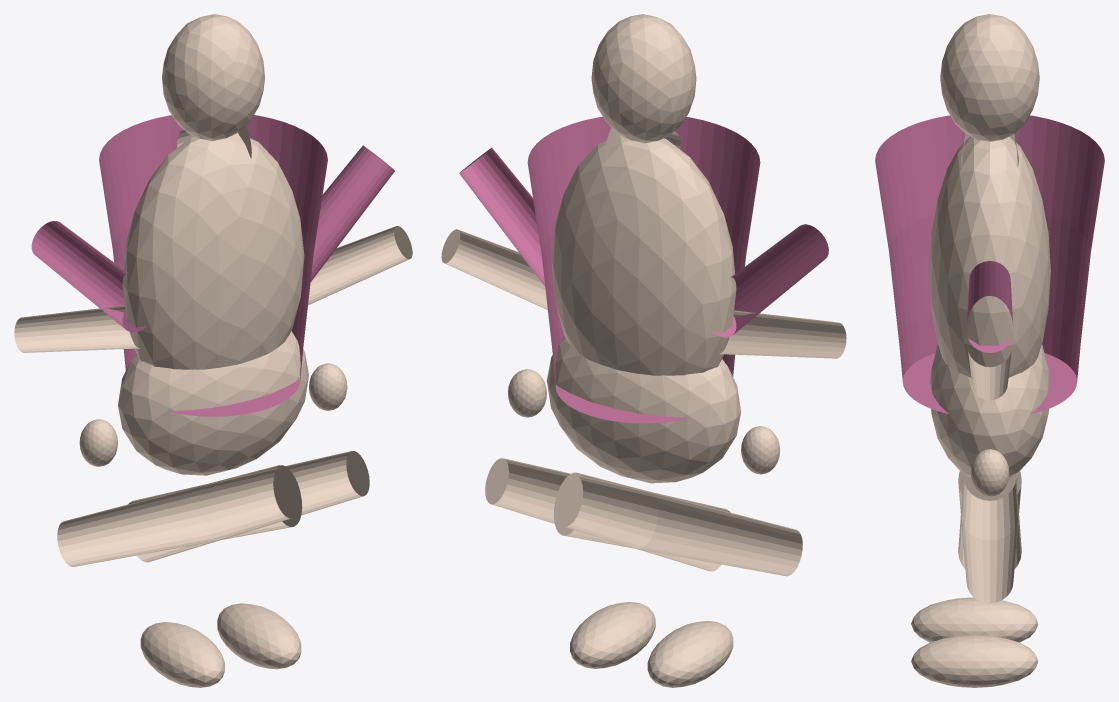
The model's file is femenino-camiseta.glb.
The picture shows the model from 3 angles, left to right: view 1: azimuth 30°, elevation 25°; view 2: azimuth 150°, elevation 25°; view 3: azimuth 270°, elevation 25°; orthographic projection.
Parts seen in each view (by area): view 1: Avatar0, Prenda, Avatar1, Avatar3, Avatar4, Avatar8, Avatar6, Avatar9, Avatar5, Avatar10, Avatar7, Avatar11; view 2: Avatar0, Prenda, Avatar1, Avatar3, Avatar4, Avatar8, Avatar6, Avatar5, Avatar9, Avatar10, Avatar11, Avatar7; view 3: Prenda, Avatar0, Avatar3, Avatar1, Avatar9, Avatar5, Avatar8, Avatar4, Avatar11, Avatar10.
Boxes of the visible parts, x1,y1,x2,y2 form: Avatar0: (122, 133, 304, 369); Prenda: (31, 115, 394, 416); Avatar1: (118, 331, 308, 475); Avatar3: (162, 14, 264, 141); Avatar4: (57, 465, 302, 566); Avatar8: (128, 451, 369, 562); Avatar6: (14, 305, 140, 352); Avatar9: (217, 603, 301, 669); Avatar5: (140, 622, 224, 687); Avatar10: (308, 226, 412, 305); Avatar7: (79, 419, 117, 466); Avatar11: (309, 363, 347, 410); Avatar0: (551, 135, 736, 375); Prenda: (459, 116, 828, 423); Avatar1: (547, 336, 740, 483); Avatar3: (591, 14, 696, 143); Avatar4: (553, 472, 802, 576); Avatar8: (485, 458, 730, 571); Avatar6: (719, 310, 846, 358); Avatar5: (647, 621, 733, 687); Avatar9: (570, 602, 655, 668); Avatar10: (441, 229, 558, 314); Avatar11: (507, 369, 546, 417); Avatar7: (741, 426, 779, 474); Prenda: (875, 115, 1104, 414); Avatar0: (929, 136, 1050, 377); Avatar3: (940, 14, 1039, 141); Avatar1: (930, 344, 1049, 477); Avatar9: (911, 634, 1038, 687); Avatar5: (911, 597, 1038, 642); Avatar8: (958, 471, 1021, 603); Avatar4: (958, 478, 1021, 568); Avatar11: (970, 449, 1009, 496); Avatar10: (968, 351, 1011, 400).
Bounding box in the file's own units: 1.61 × 2.58 × 0.83.
